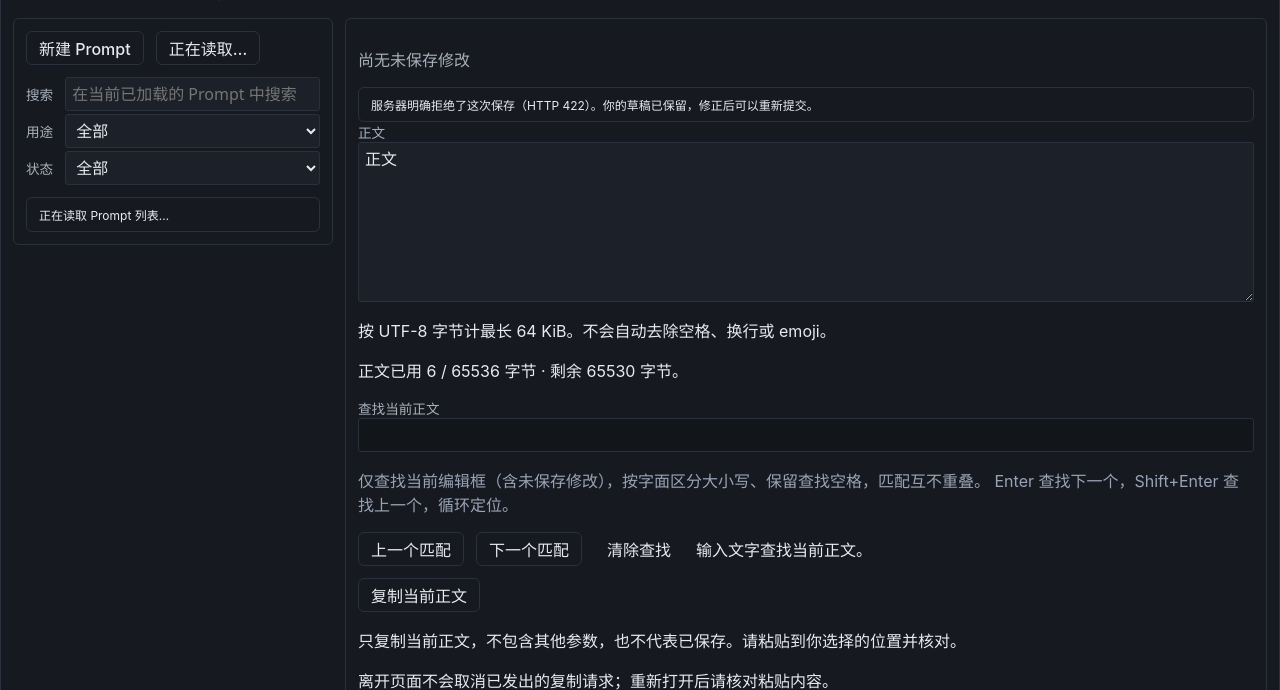
it: P0-F a definite HTTP rejection is not an unknown outcome › treats a lost response as genuinely unknown
Click the button "新建 Prompt" at coordinates (85, 48), box [26, 31, 144, 65]
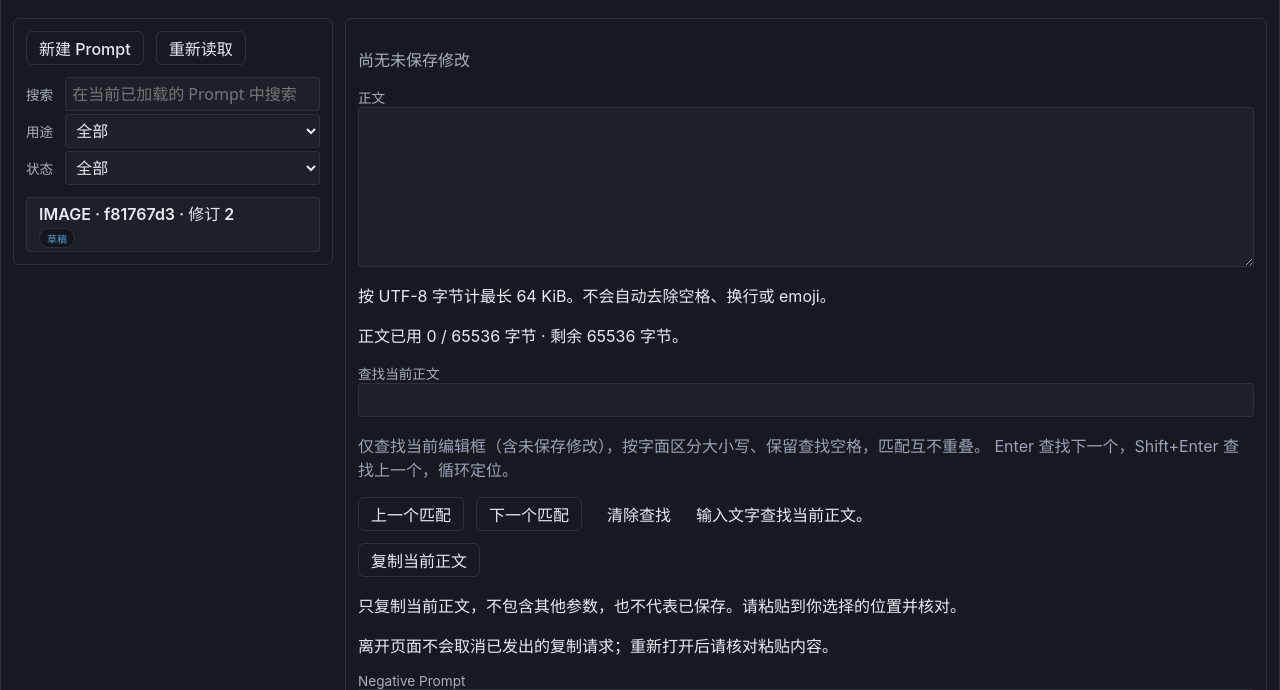
Type "正文" into the text box labelled "正文" at coordinates (806, 187), box [358, 107, 1254, 267]
(page scrolled)
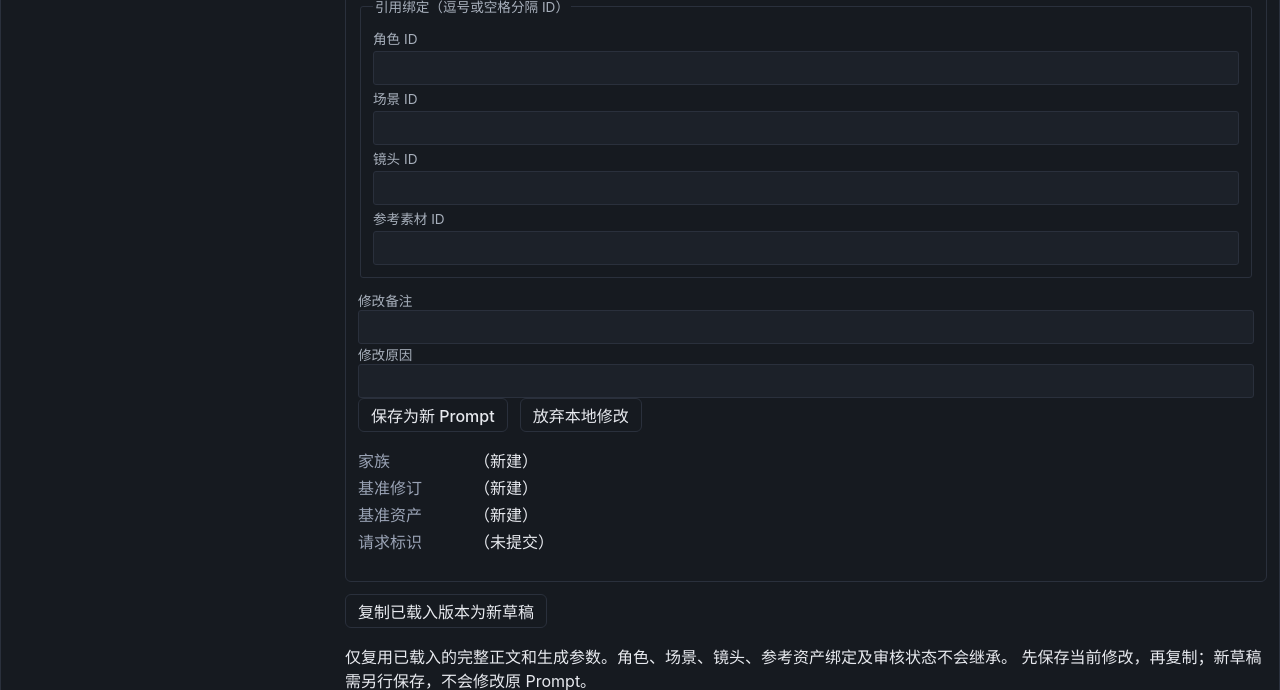
Click the button "保存为新 Prompt" at coordinates (433, 415), box [358, 398, 508, 432]
(page scrolled)
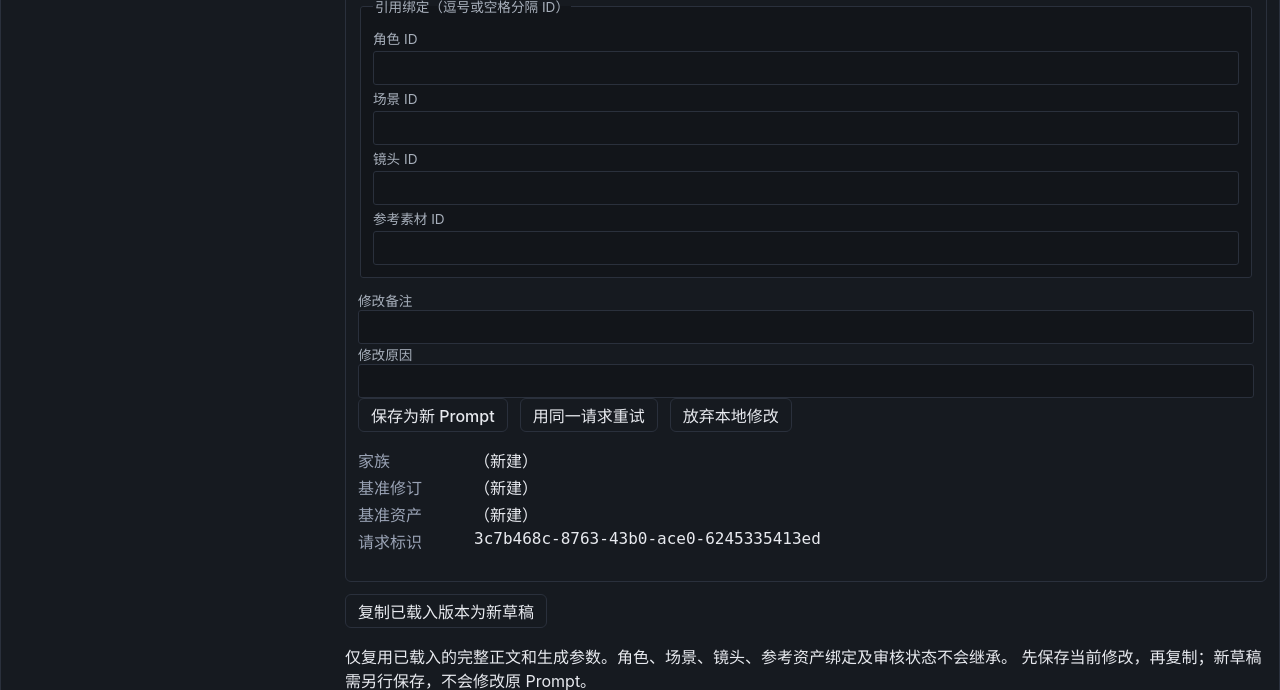
Result: the button "用同一请求重试" is shown at [520, 398, 658, 432]
